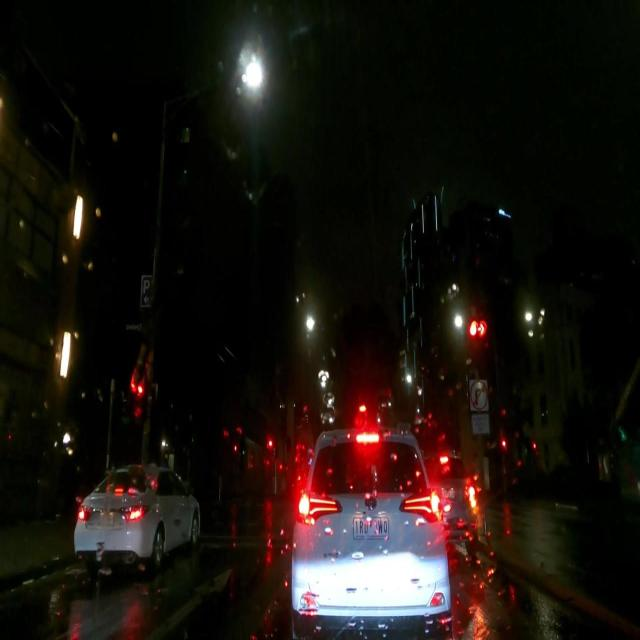Car: (289, 428, 450, 632), (71, 466, 199, 567)
